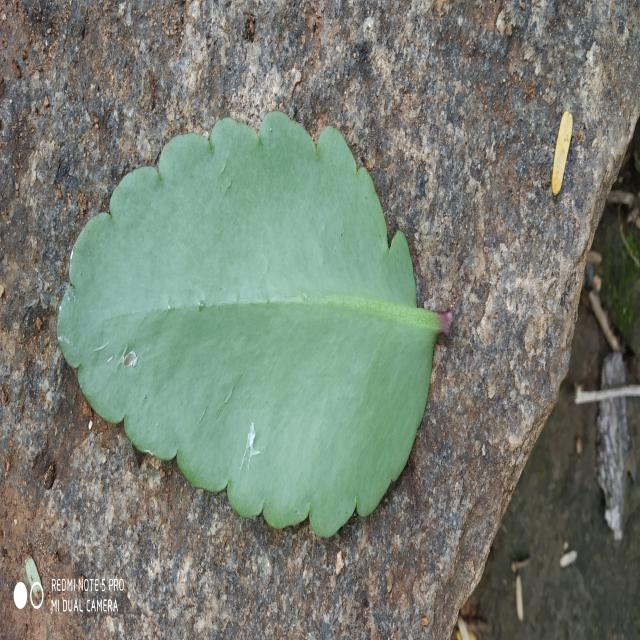defectedspinach: (64, 228, 155, 452)
spinach: (58, 112, 451, 538)
